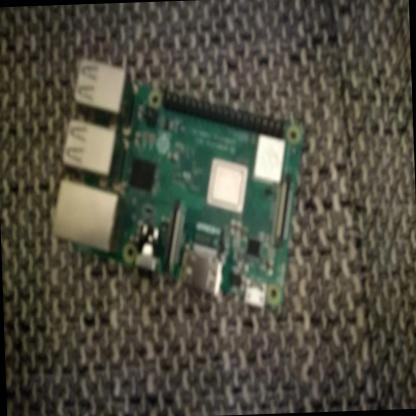Raspberry_Pi_3: (48, 48, 314, 319)
